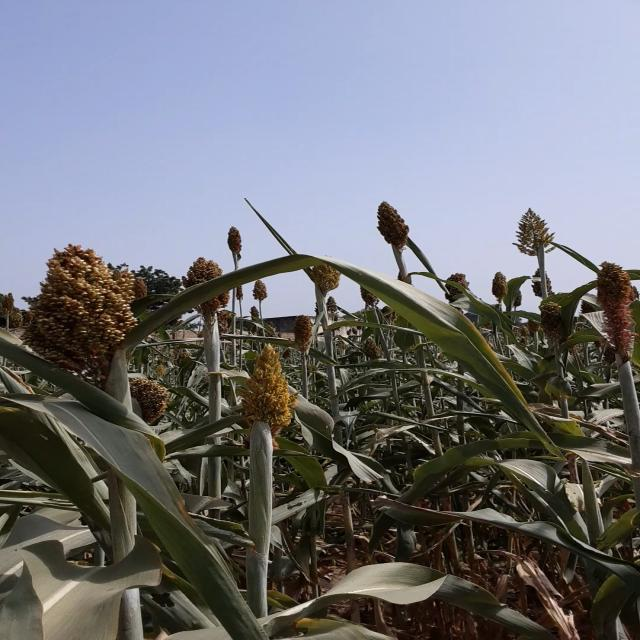UnripeSorghum: (27, 227, 151, 374), (204, 328, 334, 454)
